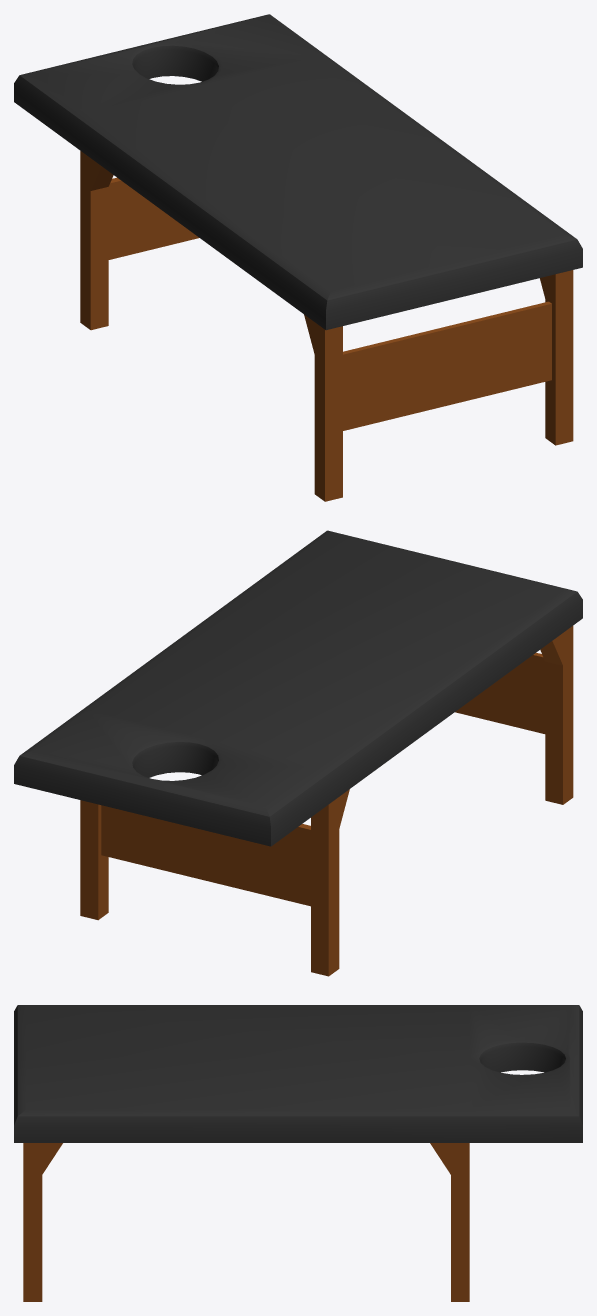
Rendered from massageTable.fbx.
3 views of the same model, one above another, from view 1: azimuth 30°, elevation 25°; view 2: azimuth 150°, elevation 25°; view 3: azimuth 270°, elevation 25° (orthographic). The views are drawn at different scales.
Visible parts, largest first — view 1: Massage Table; view 2: Massage Table; view 3: Massage Table.
Boxes of the visible parts, left/top/right/bottom form: Massage Table: left=14, top=14, right=582, bottom=501; Massage Table: left=14, top=530, right=582, bottom=976; Massage Table: left=14, top=1005, right=582, bottom=1301.
Size of the model in its own units: 96.27 by 202 by 74.22.
